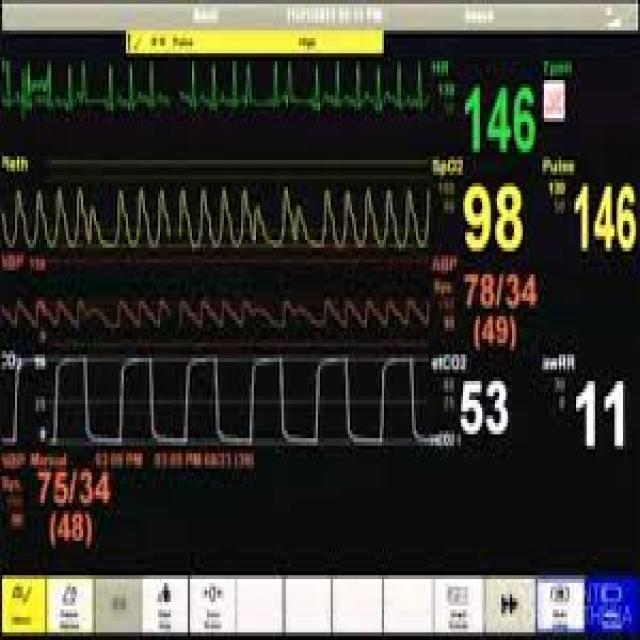cardiac_monitor: (12, 34, 640, 597)
